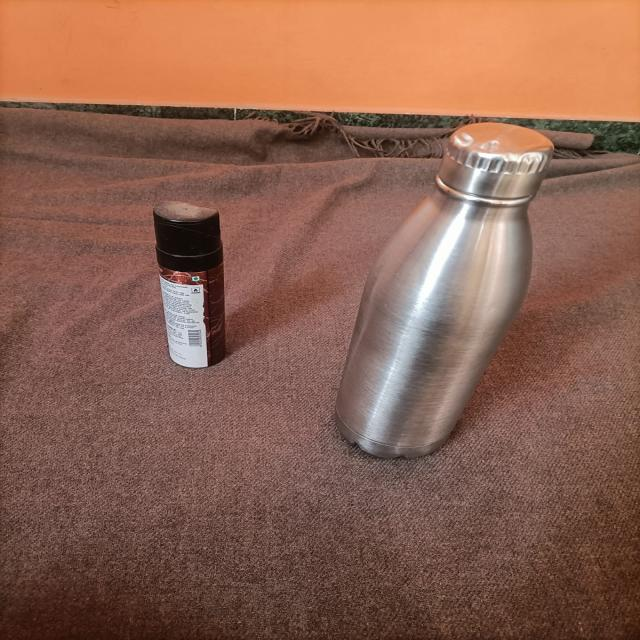bottle: (315, 145, 562, 485)
spray: (106, 175, 266, 399)
